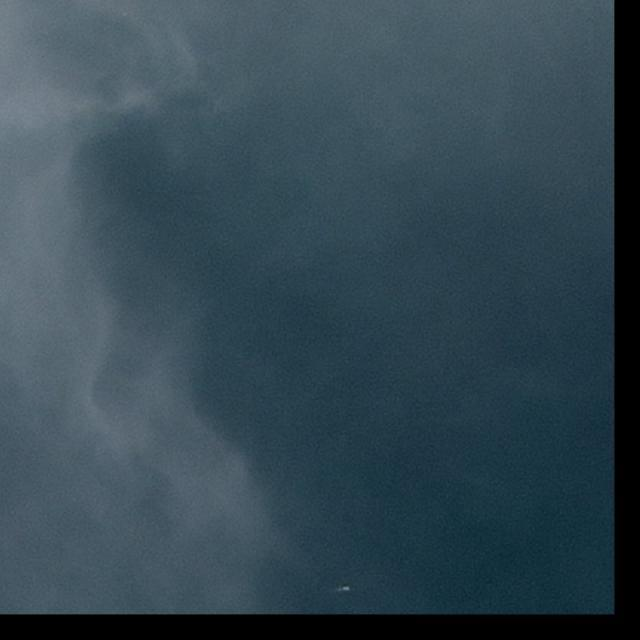ship: (341, 586, 350, 592)
